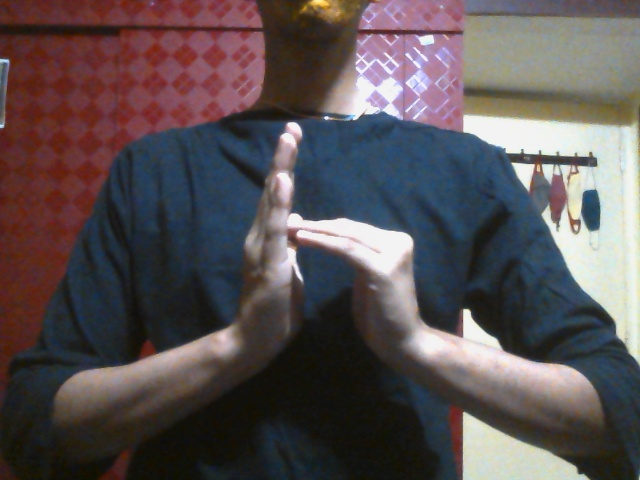Z: (222, 121, 429, 394)
